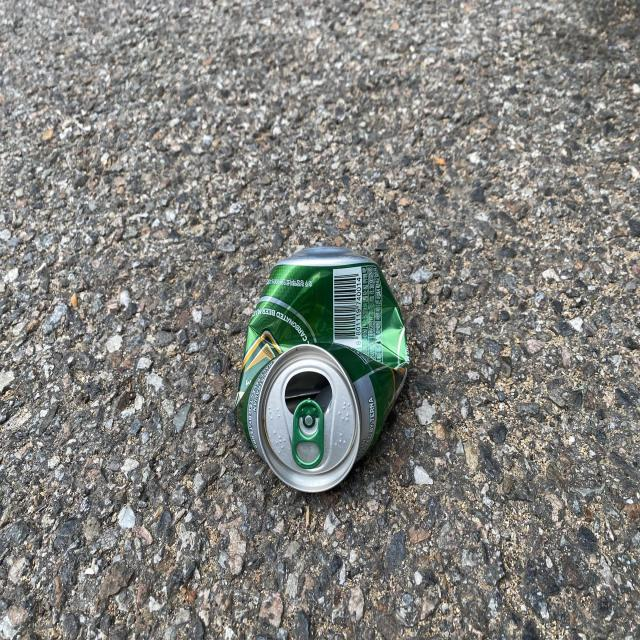can: (235, 247, 410, 493)
